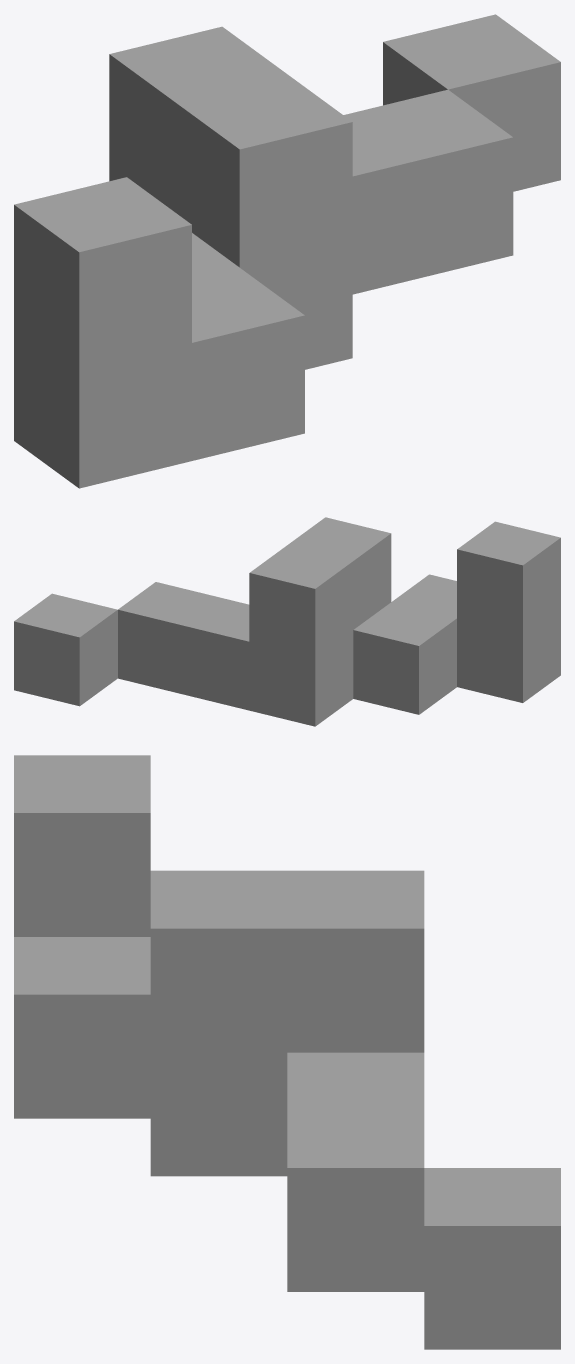
Rendered from obstacle-left behind.obj.
The picture shows the model from 3 angles, top to bottom: view 1: azimuth 30°, elevation 25°; view 2: azimuth 150°, elevation 25°; view 3: azimuth 270°, elevation 25°; orthographic projection. The views are drawn at different scales.
Bounding box in the file's own units: 1.2 × 0.4 × 0.8.
Materials: 1 (1 with a texture image).
